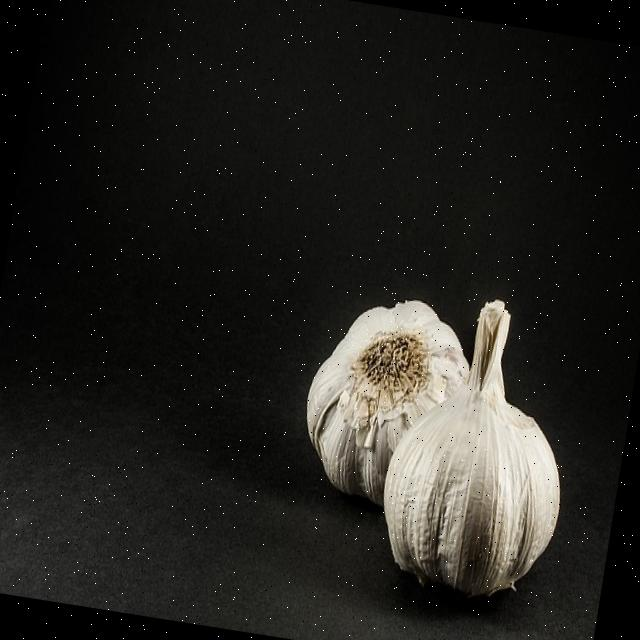garlic: (384, 301, 560, 596), (308, 301, 469, 505)
